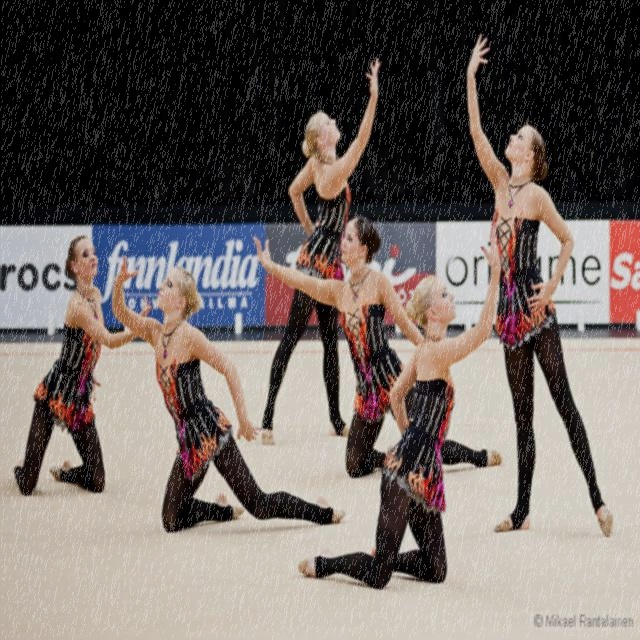pessoa: (294, 213, 504, 594), (464, 22, 614, 540), (110, 248, 348, 536), (251, 213, 504, 482), (255, 51, 383, 446), (9, 230, 154, 496)
